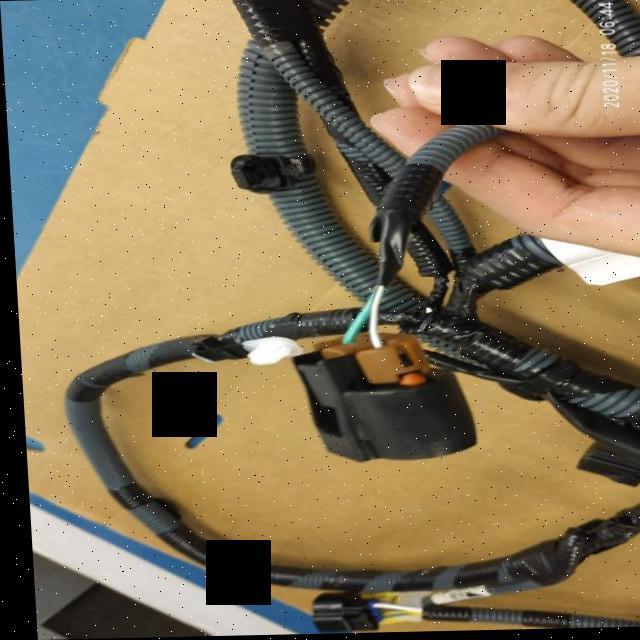cable-tie: (237, 336, 299, 367)
clip: (228, 155, 312, 195)
connector: (287, 324, 471, 475), (304, 591, 373, 633)
